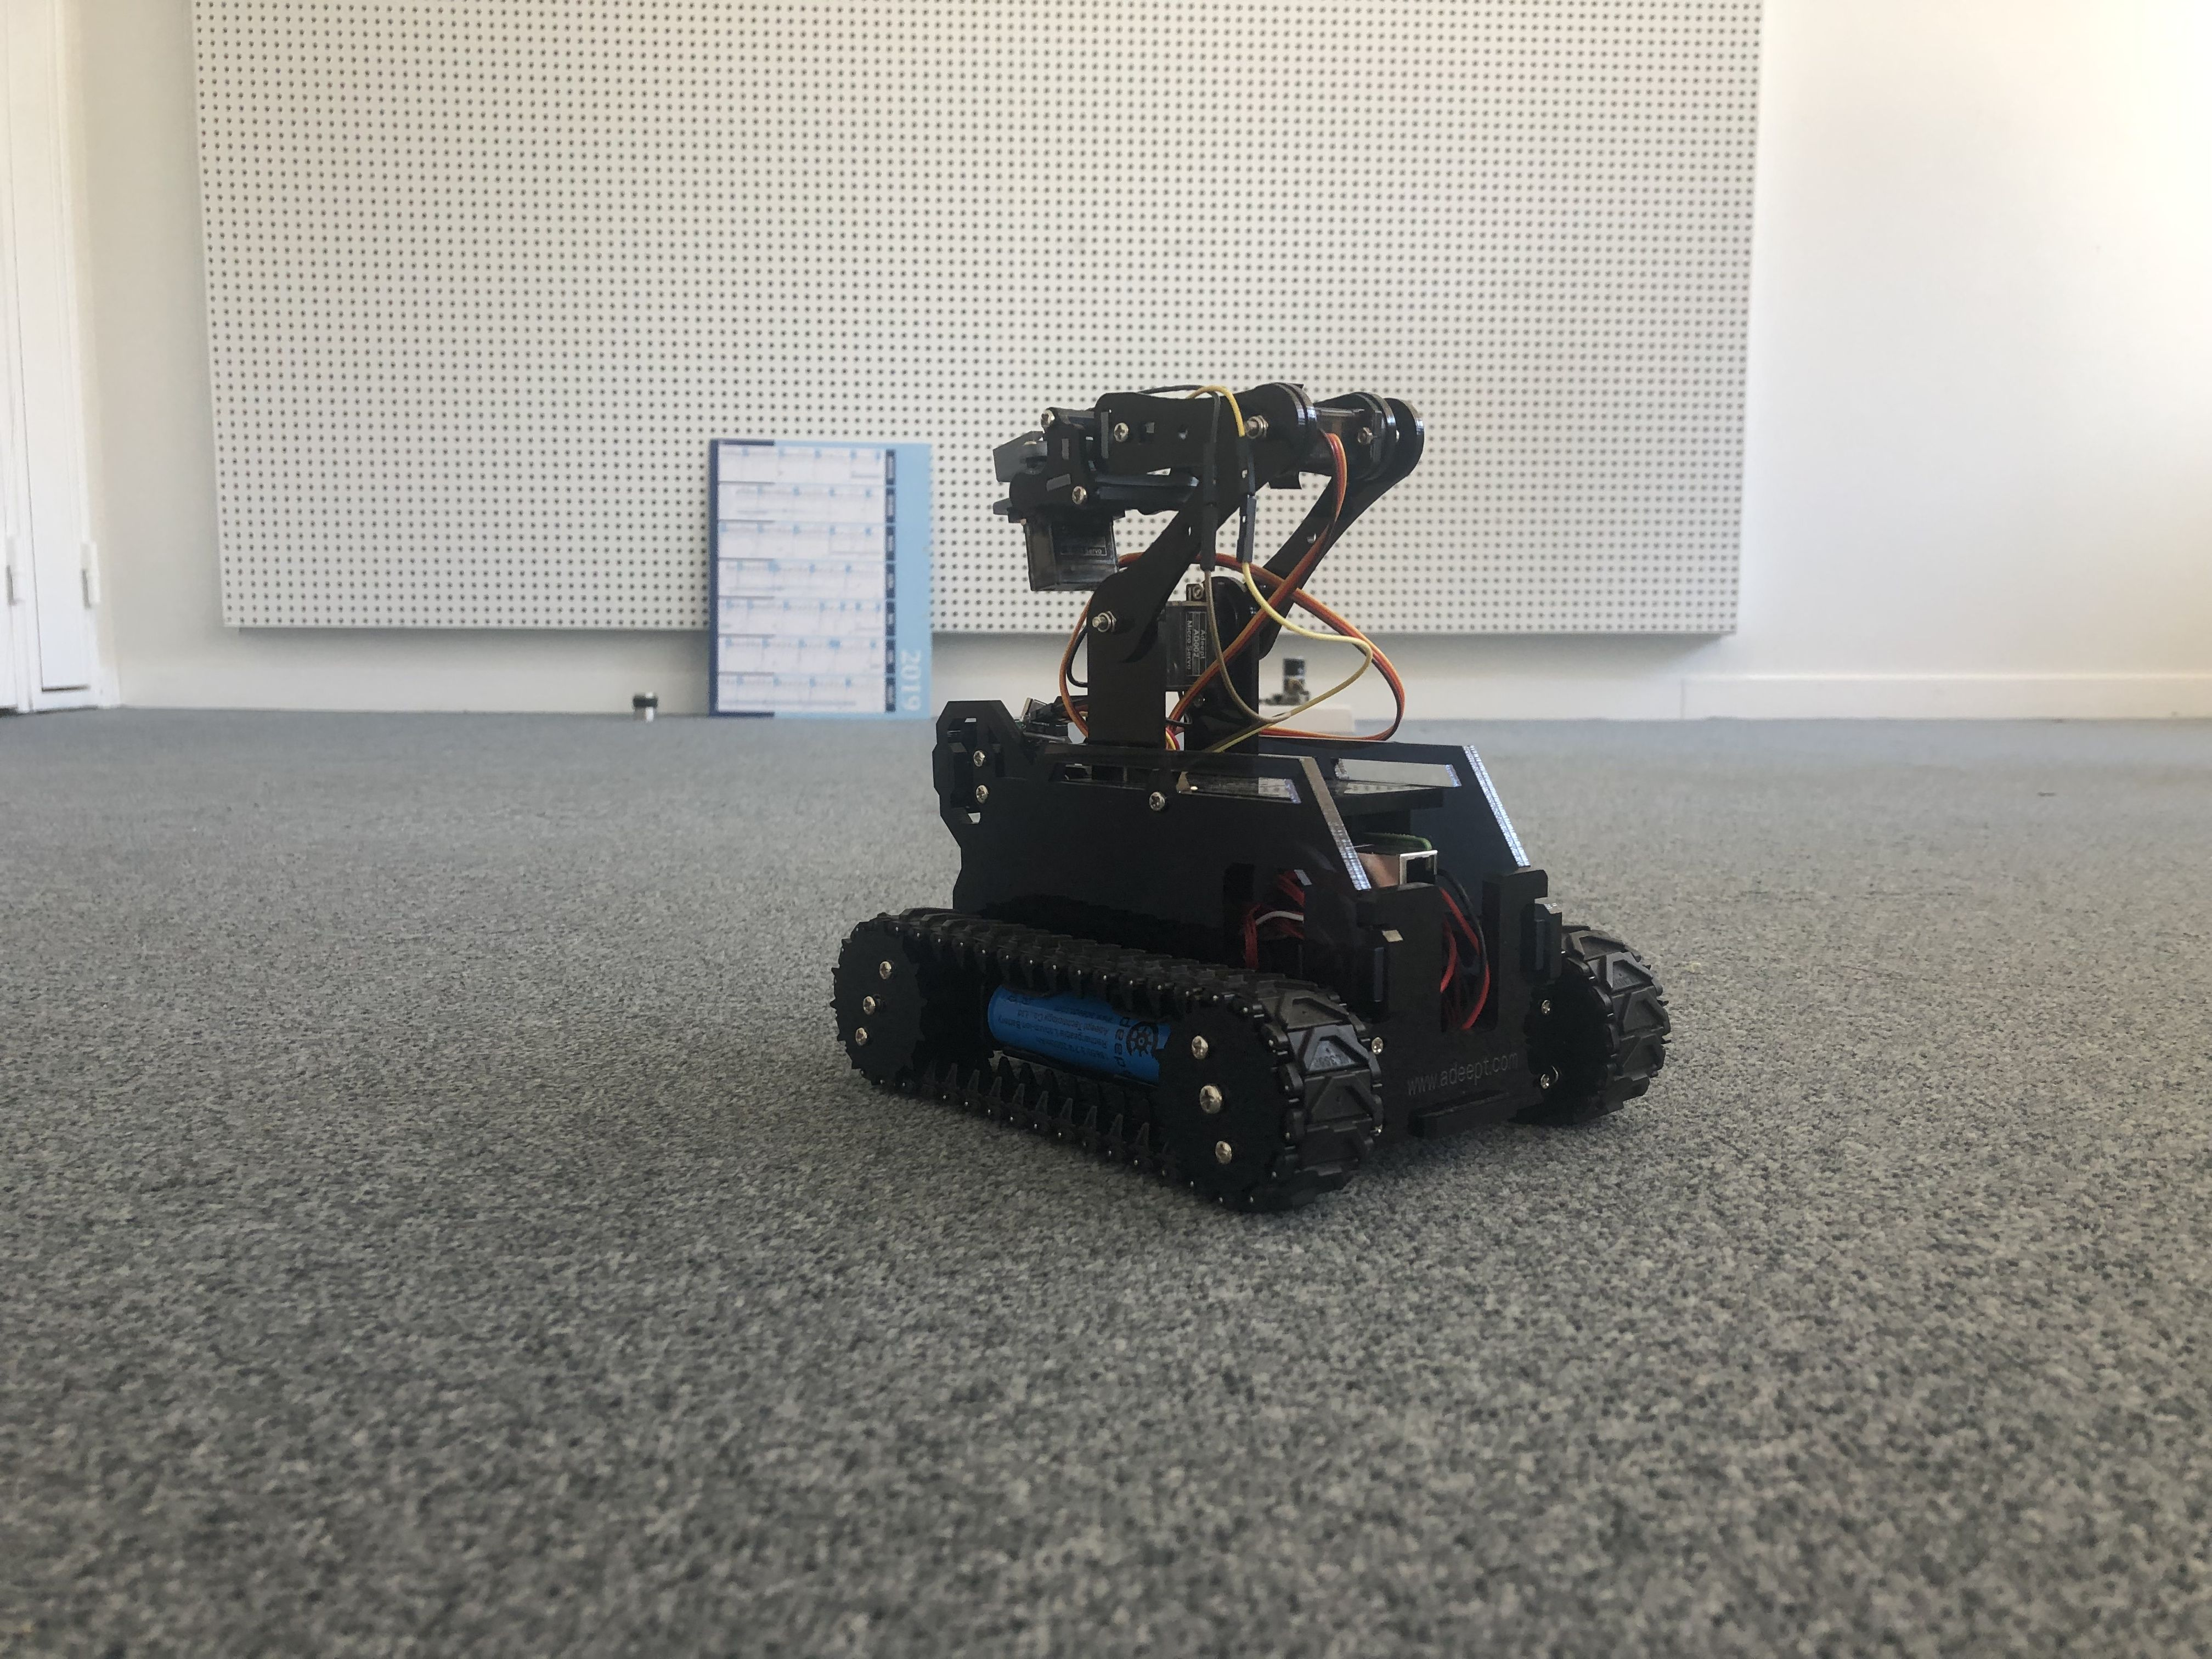rasptank: (822, 357, 1691, 1230)
